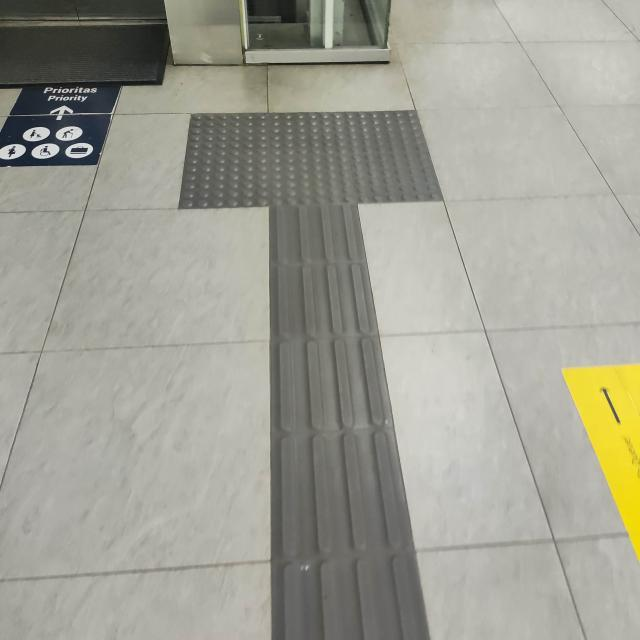lurus: (236, 192, 426, 640)
